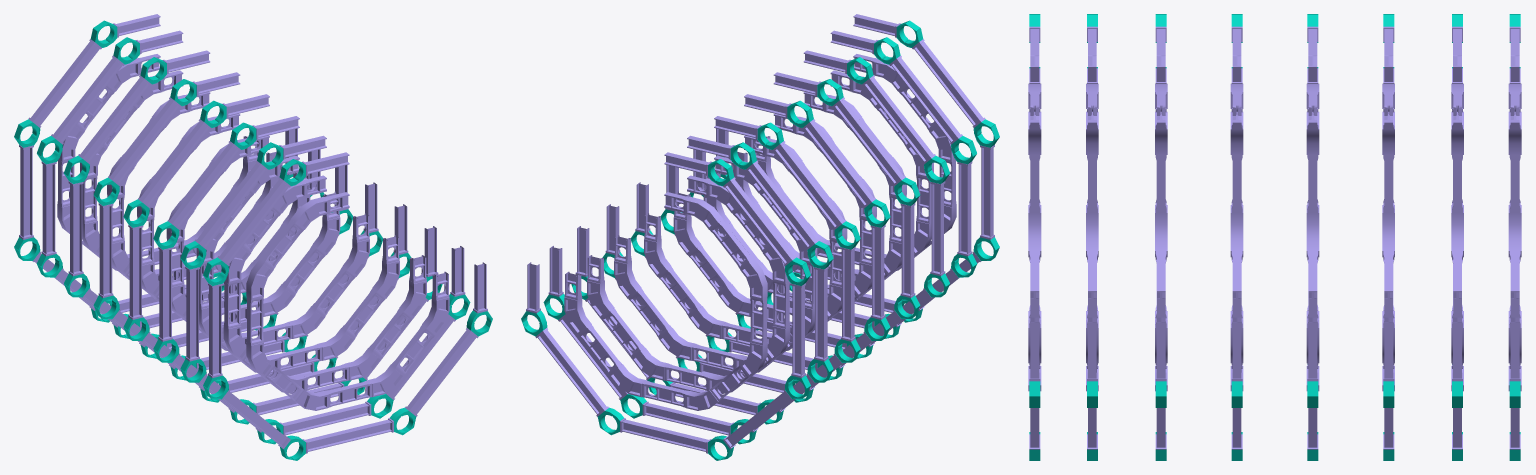
The model's file is support-btwarm-cut-3.glb.
The picture shows the model from 3 angles, left to right: view 1: azimuth 30°, elevation 25°; view 2: azimuth 150°, elevation 25°; view 3: azimuth 270°, elevation 25°; orthographic projection. The views are drawn at different scales.
Visible parts, largest first — view 1: Warm-Structure.003; view 2: Warm-Structure.003; view 3: Warm-Structure.003.
Part boxes in pixels (left/top/right/bottom): Warm-Structure.003: left=14, top=14, right=492, bottom=460; Warm-Structure.003: left=521, top=14, right=999, bottom=460; Warm-Structure.003: left=1028, top=14, right=1521, bottom=460.
Size of the model in its own units: 18.93 by 18.93 by 22.27.
